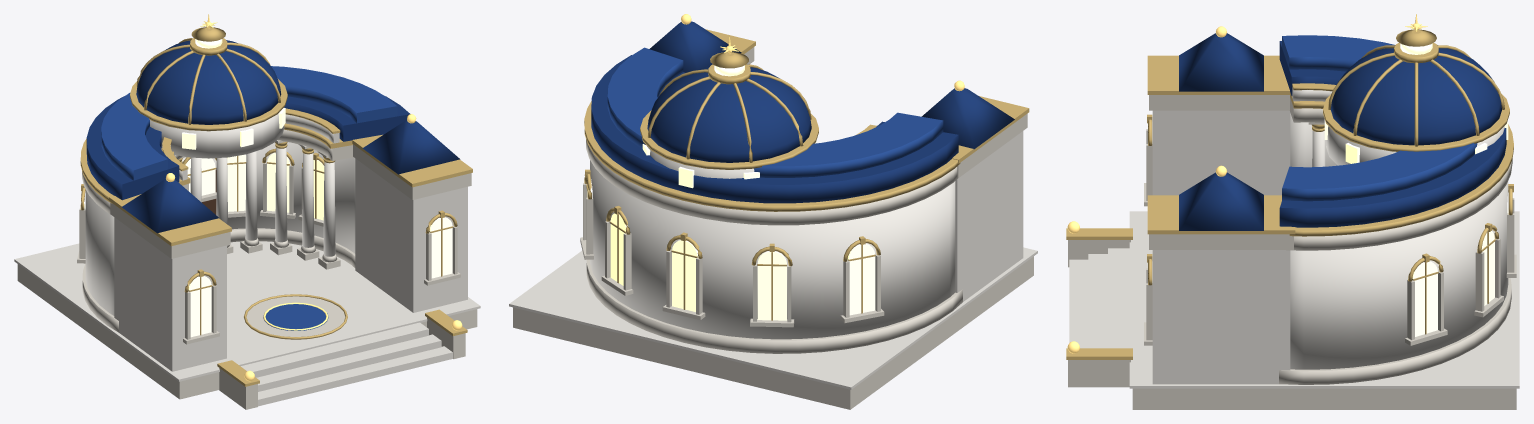
The model's file is school_of_souls.glb.
3 renders of one model, left to right at view 1: azimuth 30°, elevation 25°; view 2: azimuth 150°, elevation 25°; view 3: azimuth 270°, elevation 25°, orthographic. The views are drawn at different scales.
Visible parts, largest first — view 1: SchoolOfSouls; view 2: SchoolOfSouls; view 3: SchoolOfSouls.
Part boxes in pixels (x1,y1,x2,y2): SchoolOfSouls: (14,14,480,409); SchoolOfSouls: (509,14,1037,409); SchoolOfSouls: (1066,14,1519,409).
Bounding box in the file's own units: 14.47 × 11.92 × 15.81.
